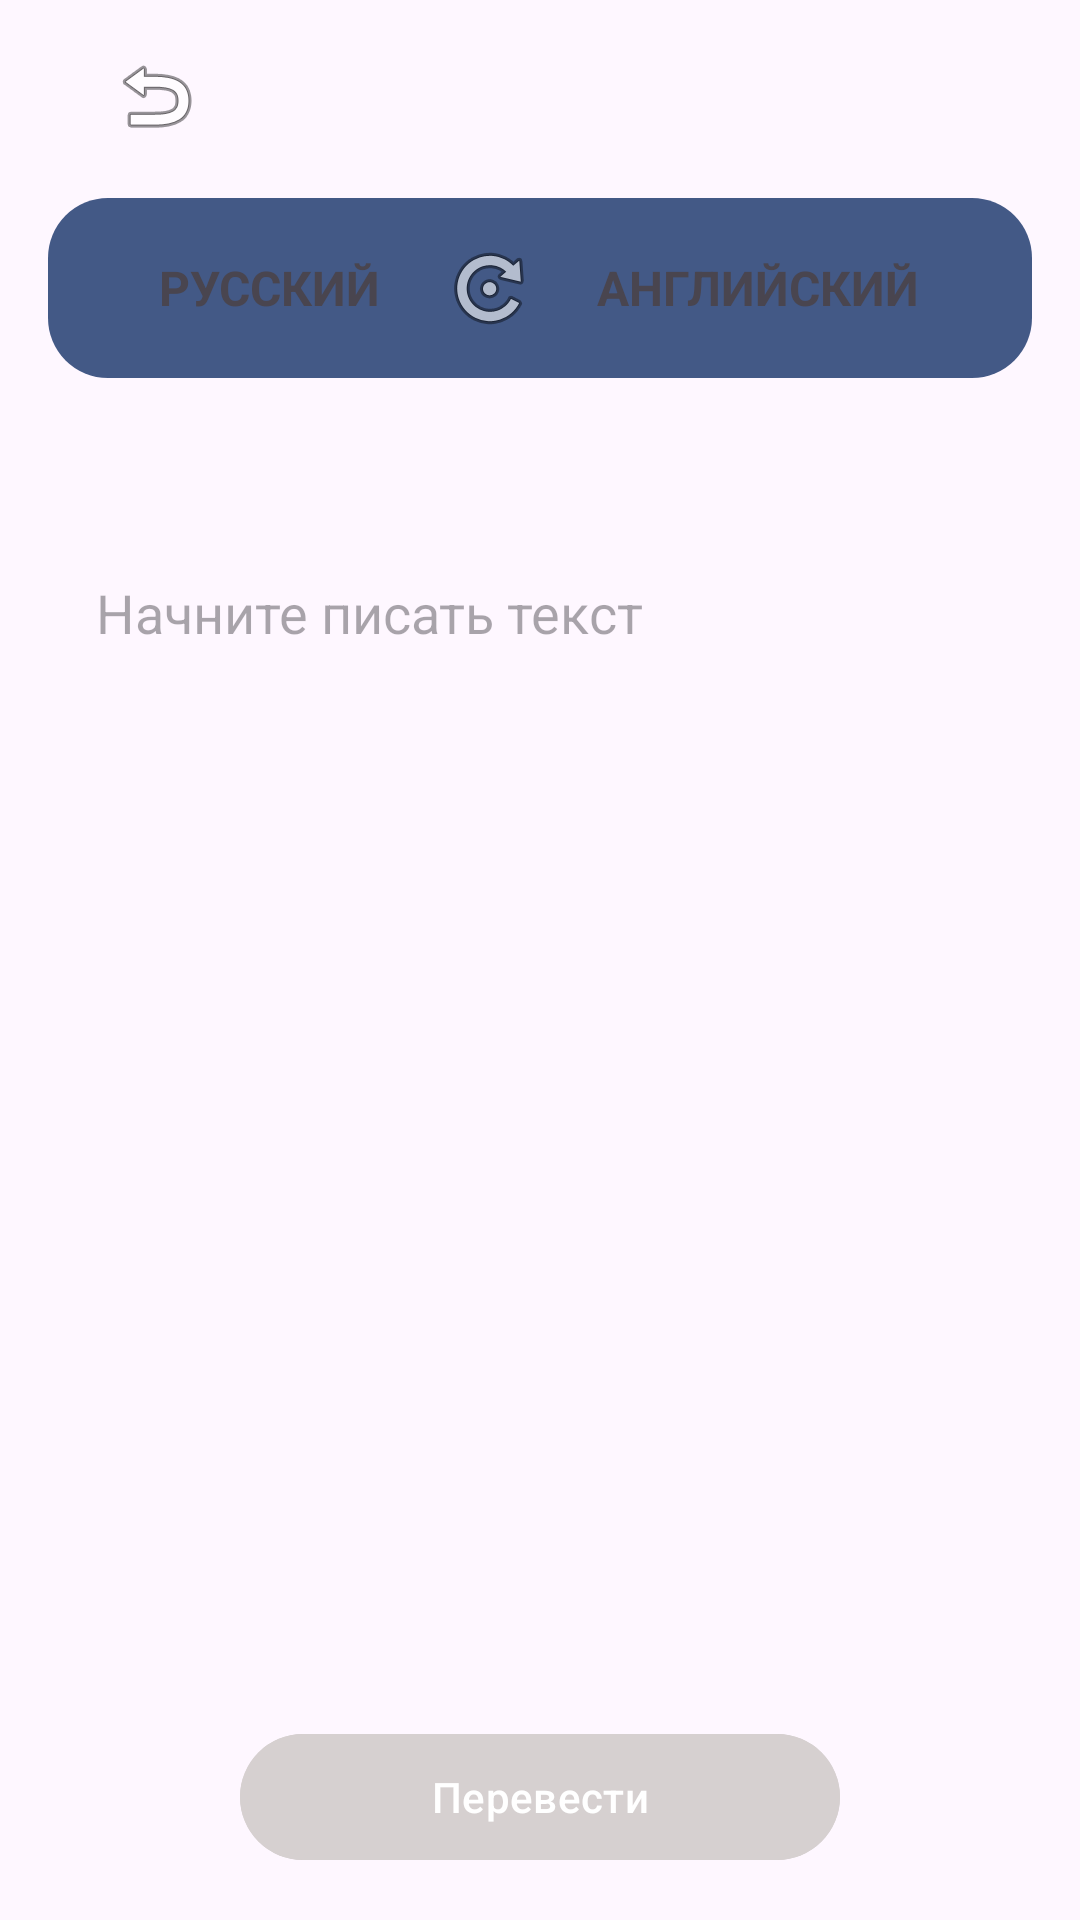

Point at icon controls on the screen. Image size 1080w x 1920h, points as [x,y].
revert: [157,96]
rotate: [489,288]
